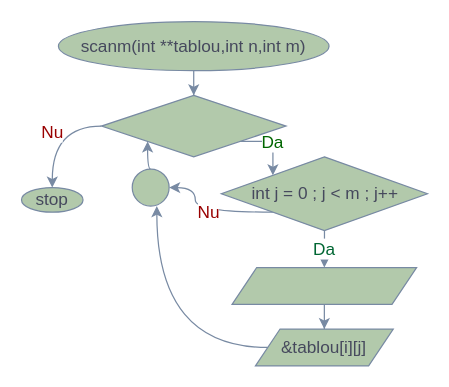
Some shapes in this 449 by 387 pixel diagram are drawn without their labels. The centre of each missing label's shape, as x and y in pixels:
elementul [i+1][j+1]: [324,285]
int i = 0 ; i < n ; i++: [193,125]
